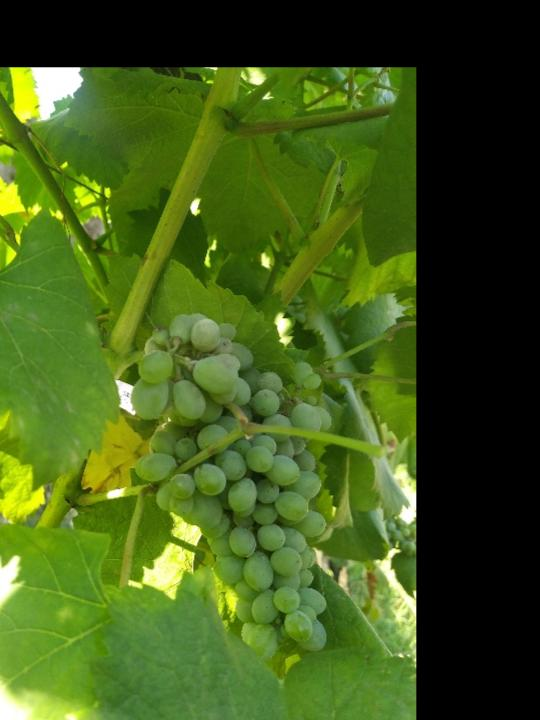grape: (130, 316, 333, 655)
